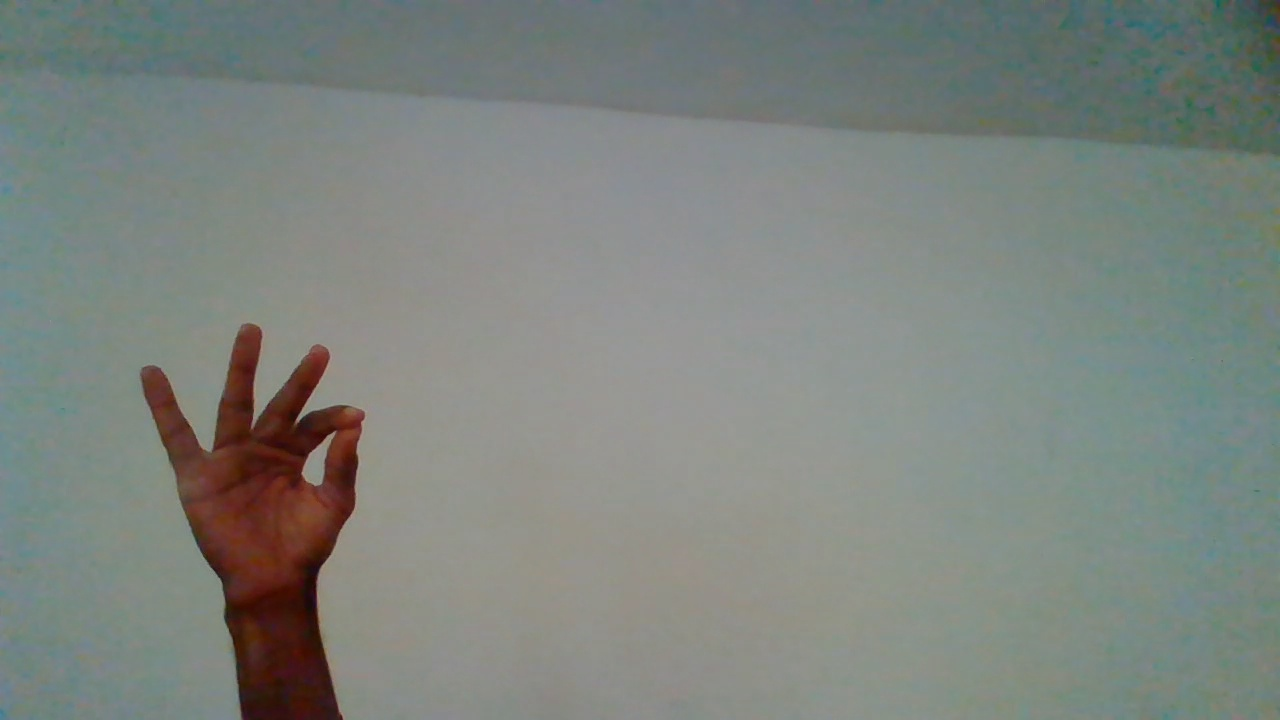le: (129, 318, 366, 695)
